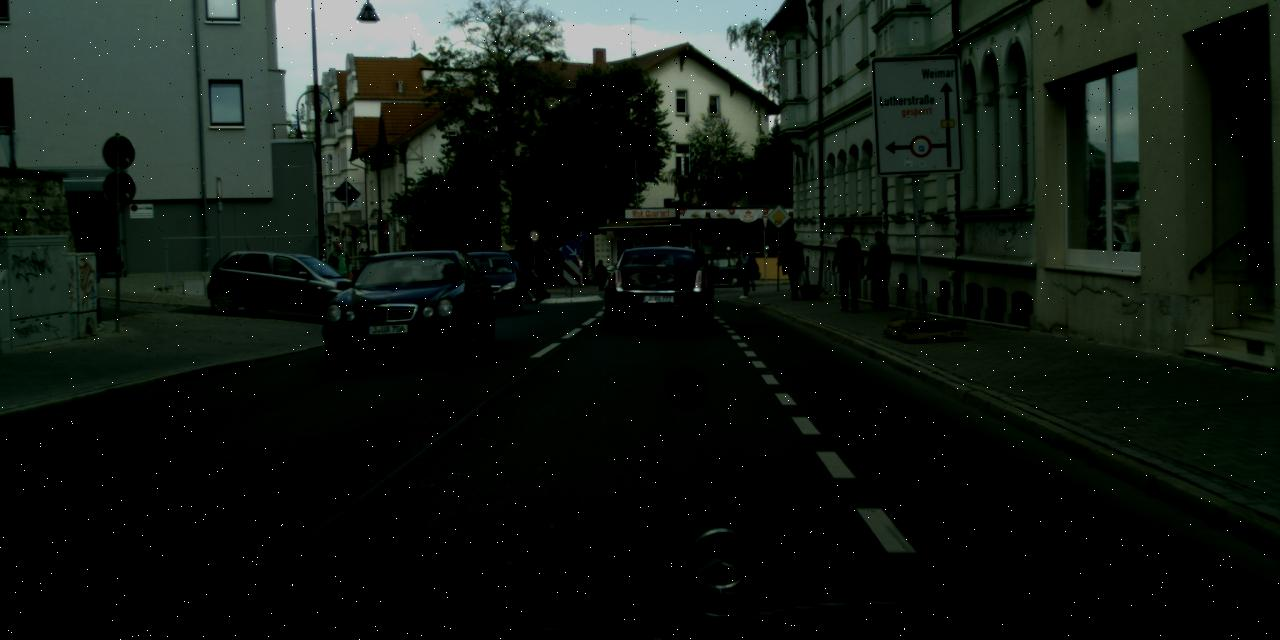ped: (830, 225, 866, 312), (863, 230, 895, 309), (780, 232, 808, 300), (328, 242, 352, 304), (733, 246, 754, 298), (506, 250, 527, 302), (516, 254, 536, 302), (692, 248, 710, 292), (739, 250, 755, 290), (594, 260, 606, 289), (358, 246, 378, 256)
